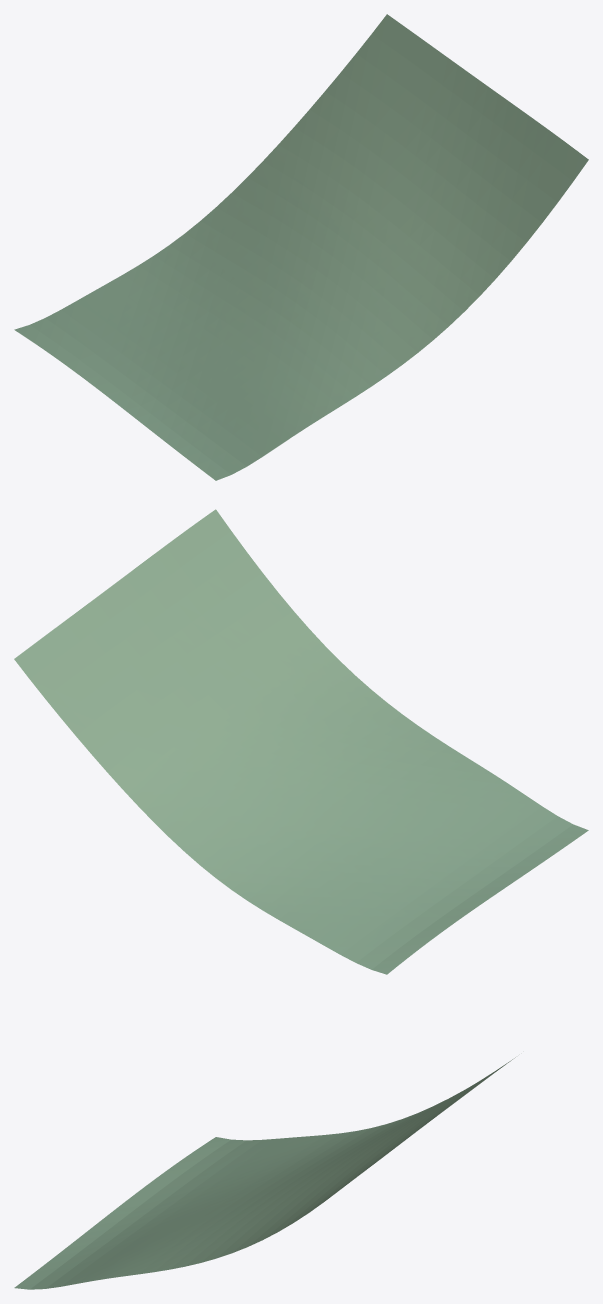
Rendered from terreno_1_1.glb.
The picture shows the model from 3 angles, top to bottom: view 1: azimuth 30°, elevation 25°; view 2: azimuth 150°, elevation 25°; view 3: azimuth 330°, elevation 25°; orthographic projection.
Visible parts, largest first — view 1: terreno_1_1; view 2: terreno_1_1; view 3: terreno_1_1.
Boxes of the visible parts, x1=… form: terreno_1_1: x1=14, y1=14, x2=588, y2=480; terreno_1_1: x1=14, y1=509, x2=588, y2=974; terreno_1_1: x1=14, y1=1057, x2=515, y2=1289.
Size of the model in its own units: 112 by 66.16 by 105.
